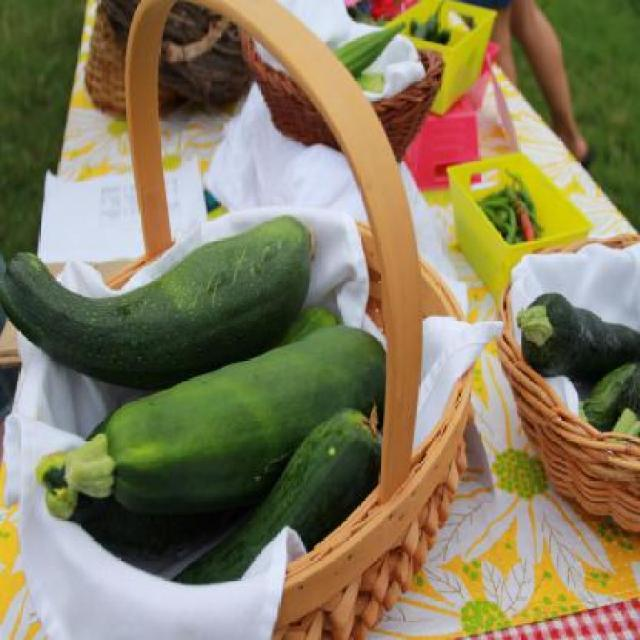Zucchini: (39, 323, 387, 526), (6, 214, 328, 398), (176, 406, 387, 588), (512, 288, 638, 400), (583, 358, 639, 433), (601, 373, 640, 448)
